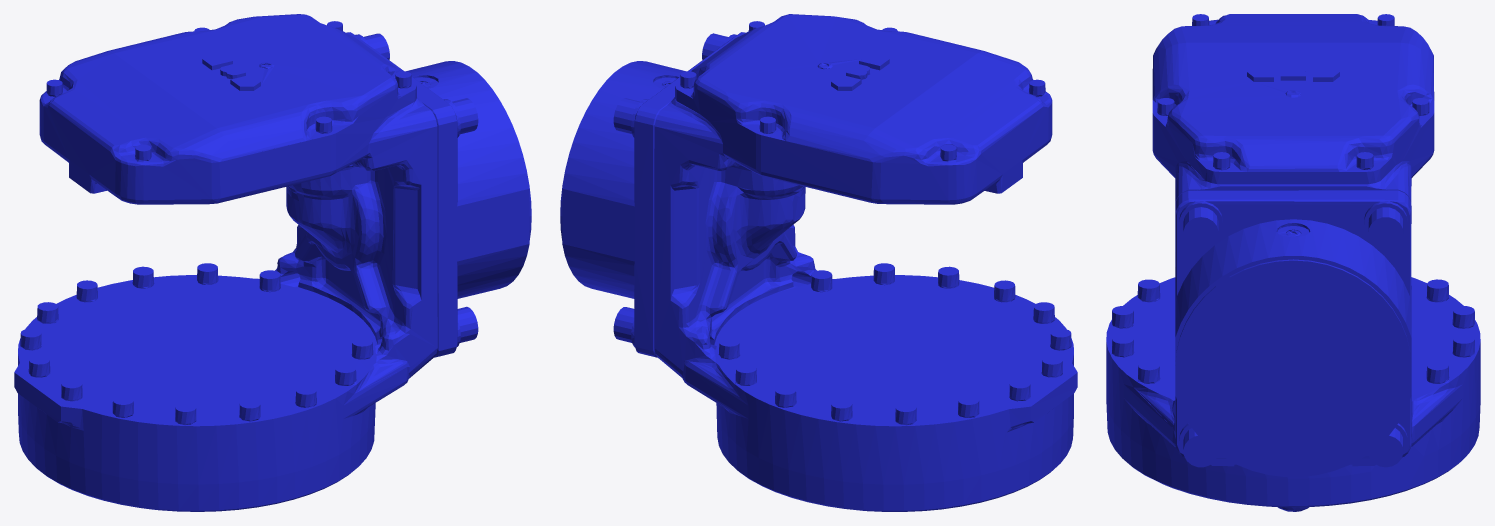
The picture shows the model from 3 angles, left to right: view 1: azimuth 30°, elevation 25°; view 2: azimuth 150°, elevation 25°; view 3: azimuth 270°, elevation 25°; orthographic projection. The views are drawn at different scales.
Parts seen in each view (by area): view 1: /Link5/Link5_005-mesh/0; view 2: /Link5/Link5_005-mesh/0; view 3: /Link5/Link5_005-mesh/0.
Part boxes in pixels (x1,y1,x2,y2): /Link5/Link5_005-mesh/0: (14, 14, 531, 511); /Link5/Link5_005-mesh/0: (560, 14, 1077, 511); /Link5/Link5_005-mesh/0: (1106, 14, 1480, 511).
Size of the model in its own units: 0.3135 by 0.256 by 0.2219.
